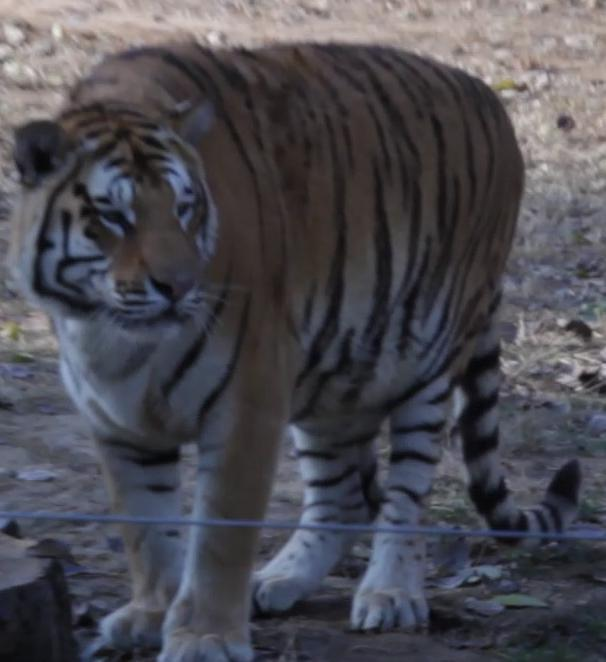tiger: (8, 40, 579, 531), (89, 524, 356, 661)
